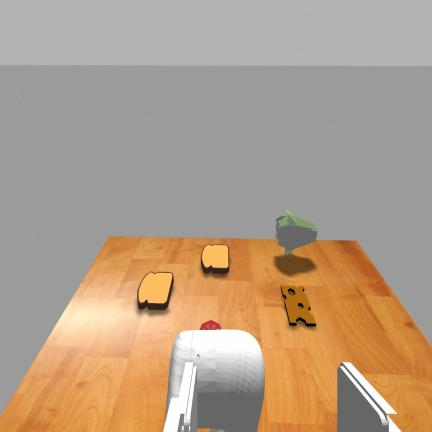cheese: (281, 286, 316, 325)
lettuce: (275, 210, 317, 254)
sliced_bread: (138, 272, 173, 309), (201, 244, 229, 272)
sliced_tomato: (200, 320, 221, 329)
